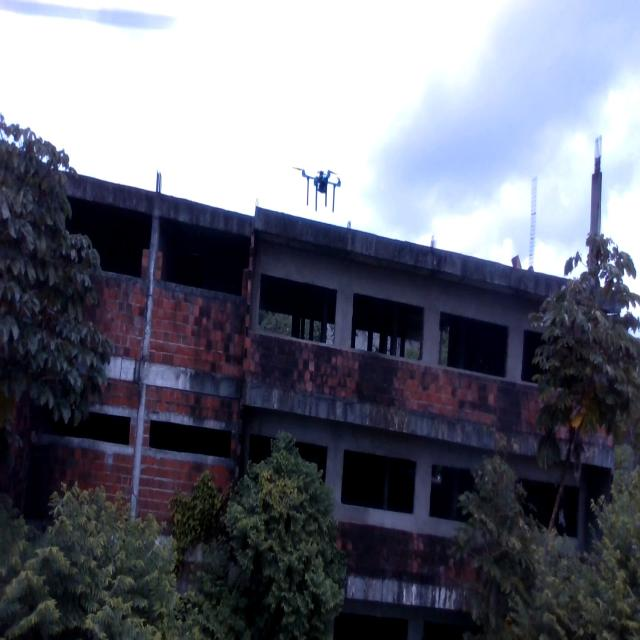-uav-: (294, 151, 348, 216)
